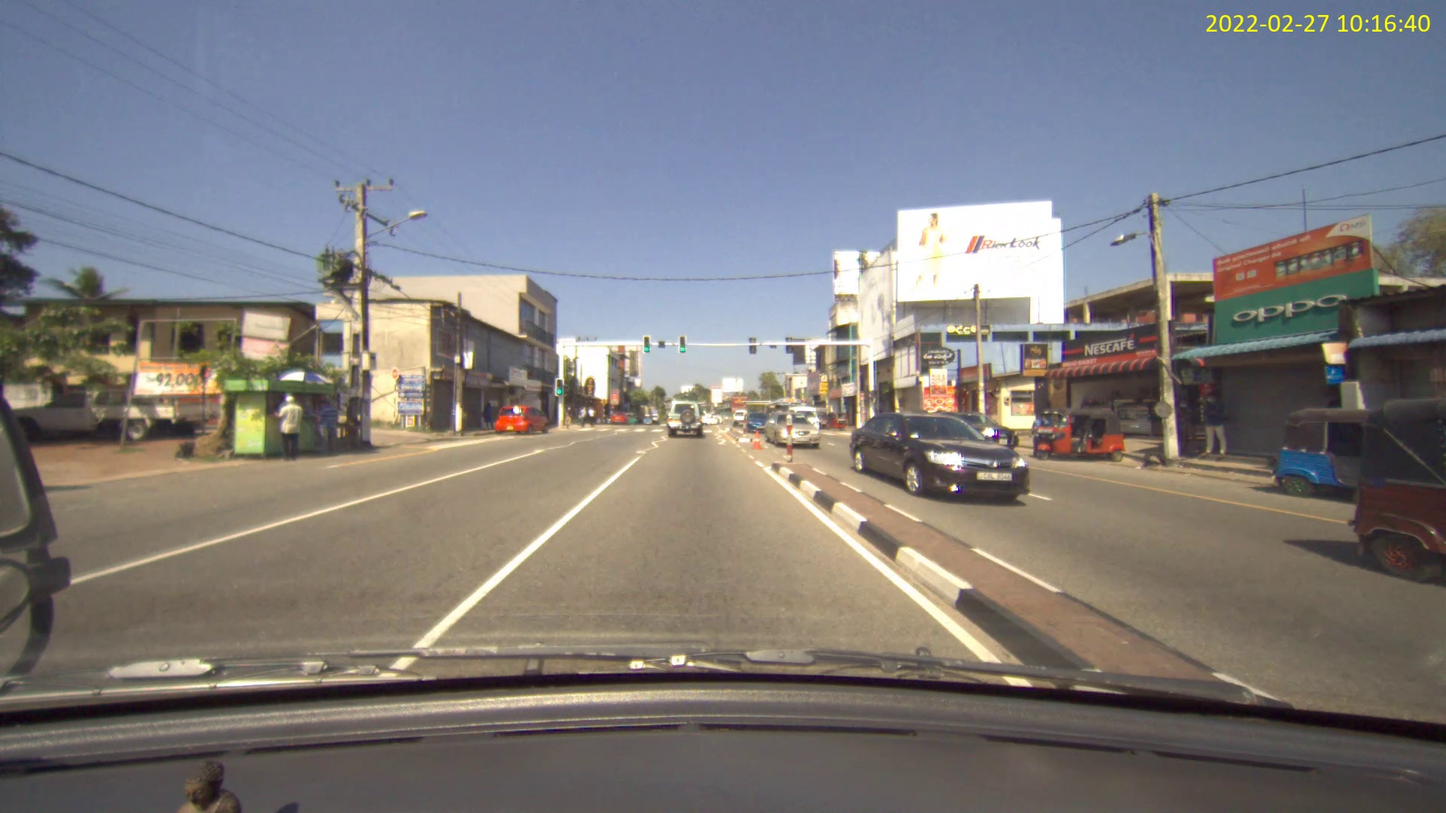Empty-count-down: (657, 340, 665, 348)
Green: (642, 335, 650, 353), (555, 378, 563, 396), (679, 335, 685, 353)
